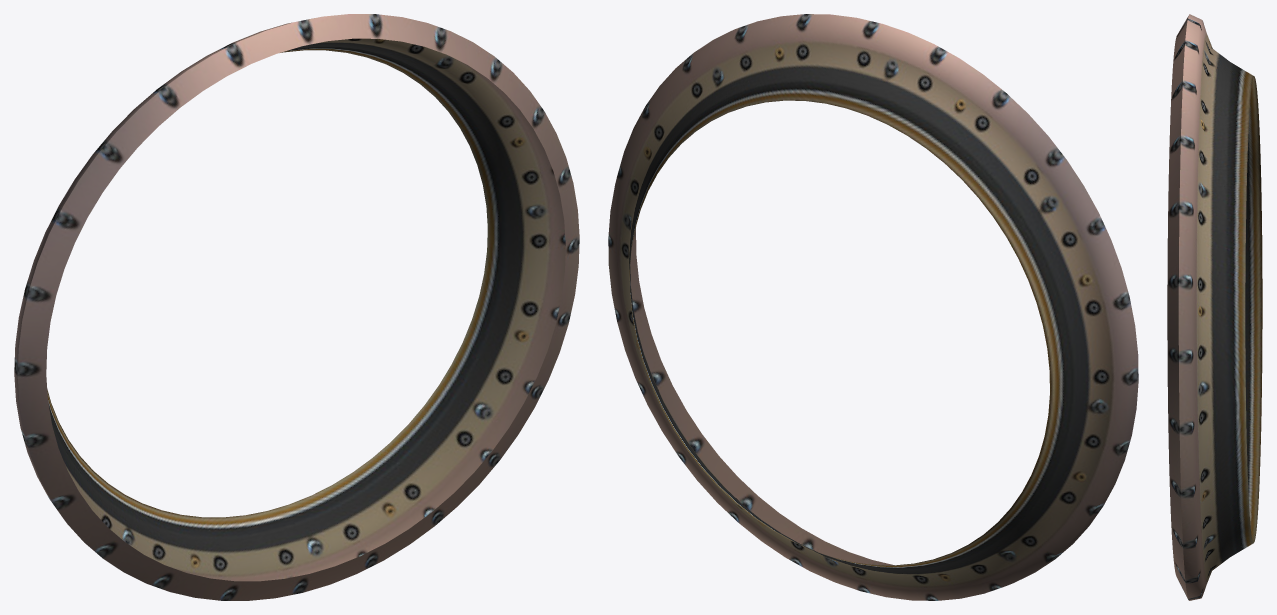
File: oblo piccolo.FBX
The picture shows the model from 3 angles, left to right: view 1: azimuth 30°, elevation 25°; view 2: azimuth 150°, elevation 25°; view 3: azimuth 270°, elevation 25°; orthographic projection. The views are drawn at different scales.
Visible parts, largest first — view 1: oblo piccolo; view 2: oblo piccolo; view 3: oblo piccolo.
Part boxes in pixels (bbox=[...]): oblo piccolo: bbox=[14, 14, 579, 600]; oblo piccolo: bbox=[608, 14, 1138, 600]; oblo piccolo: bbox=[1167, 14, 1262, 600].
Bounding box in the file's own units: 99.39 × 99.44 × 16.11.
